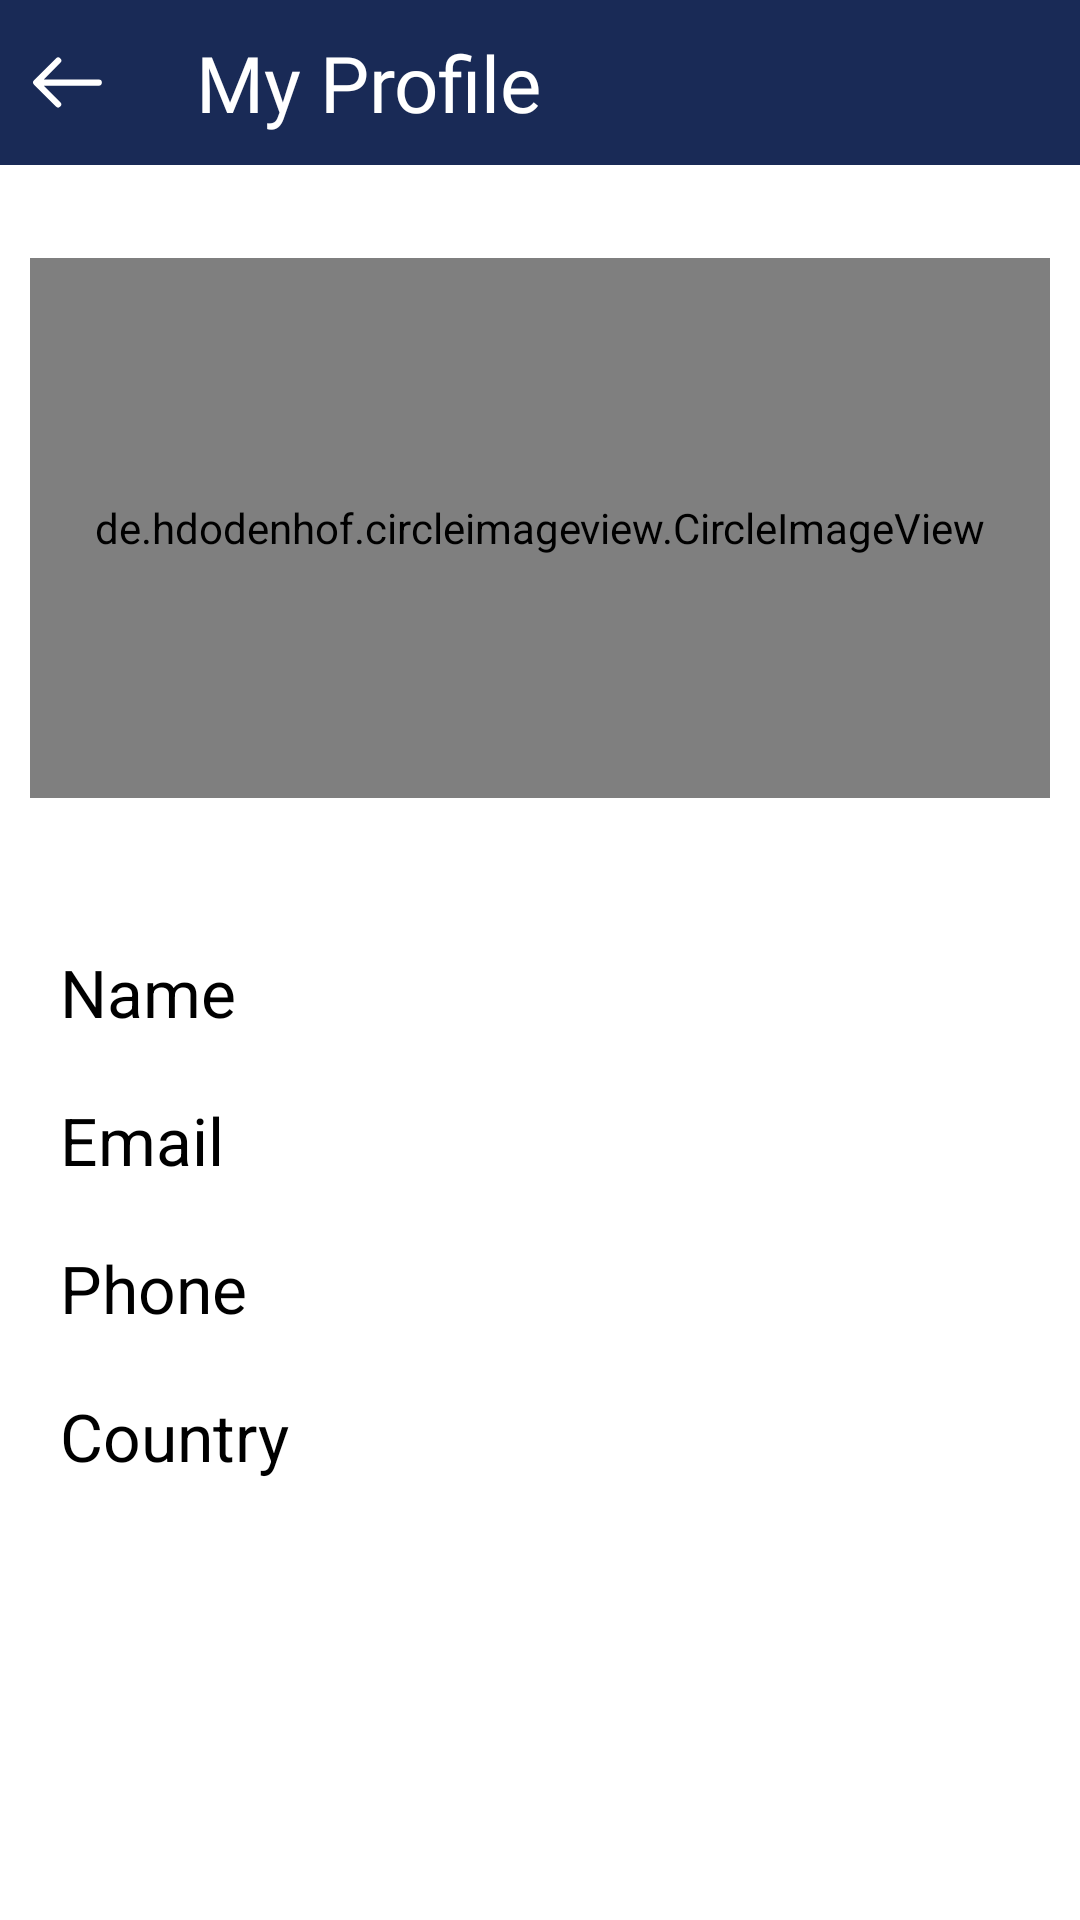

Screen size 1080 × 1920. Icon name, then its center in pixels as [x,y]:
back: [67,82]
